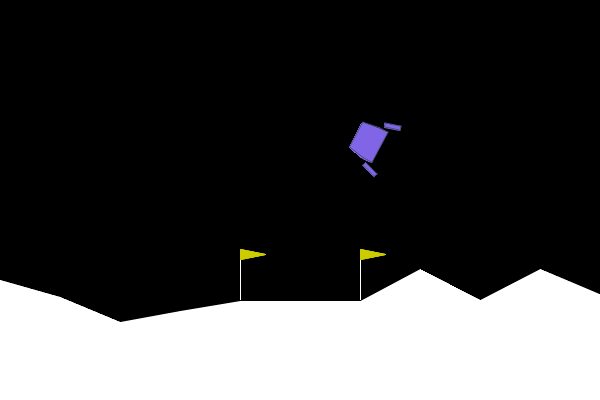lander: (340, 108, 403, 179)
